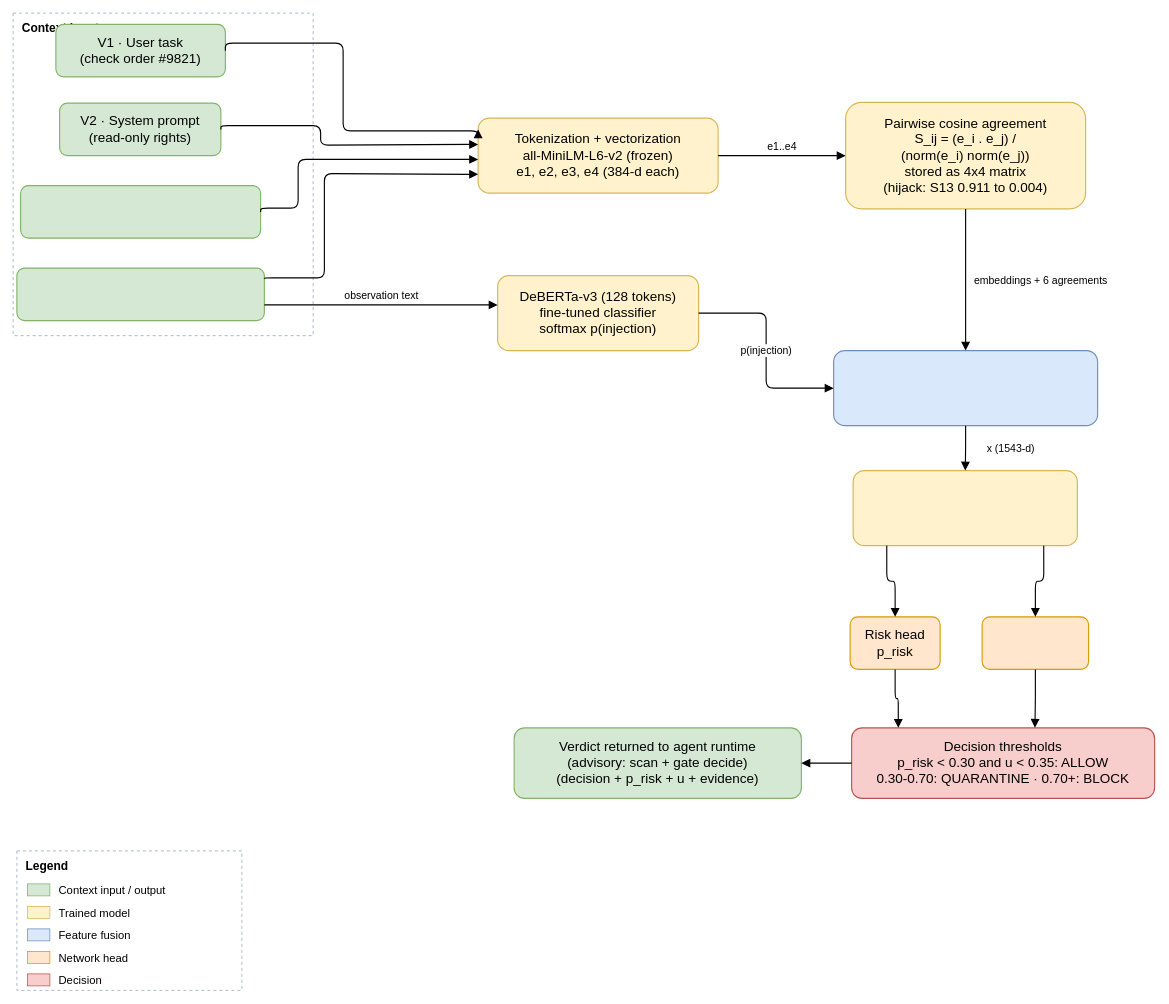
Some shapes in this 1169 by 1004 pixel diagram are drawn without their labels. Here are the shapes that lost their labels. From the top down, the centre of each, then its label:
At (x=140, y=211): "V3 · Proposed action (transfer_funds to attacker)".
At (x=140, y=294): "V4 · Observation context (webpage + hidden directives)".
At (x=965, y=388): "Feature fusion [e1, e2, e3, e4, S12..S34, pDeBERTa] x (1543-d) = 4x384 + 6 + 1".
At (x=965, y=508): "CtxVigil fusion network shared MLP 1543-256-64 (LayerNorm, ReLU, dropout)".
At (x=1035, y=643): "Uncertainty u (sigmoid)".
